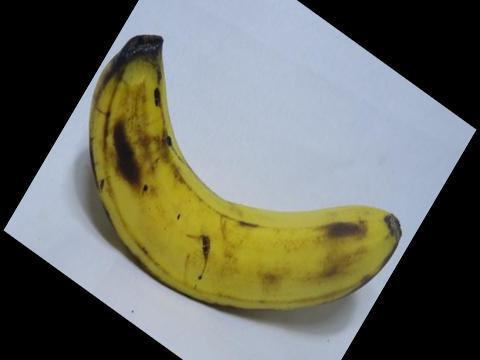ripe: (70, 27, 415, 331)
